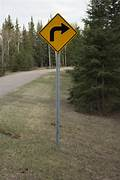right: (37, 12, 78, 53)
